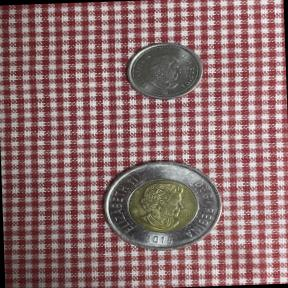coin: (94, 152, 226, 256), (119, 38, 209, 105)
